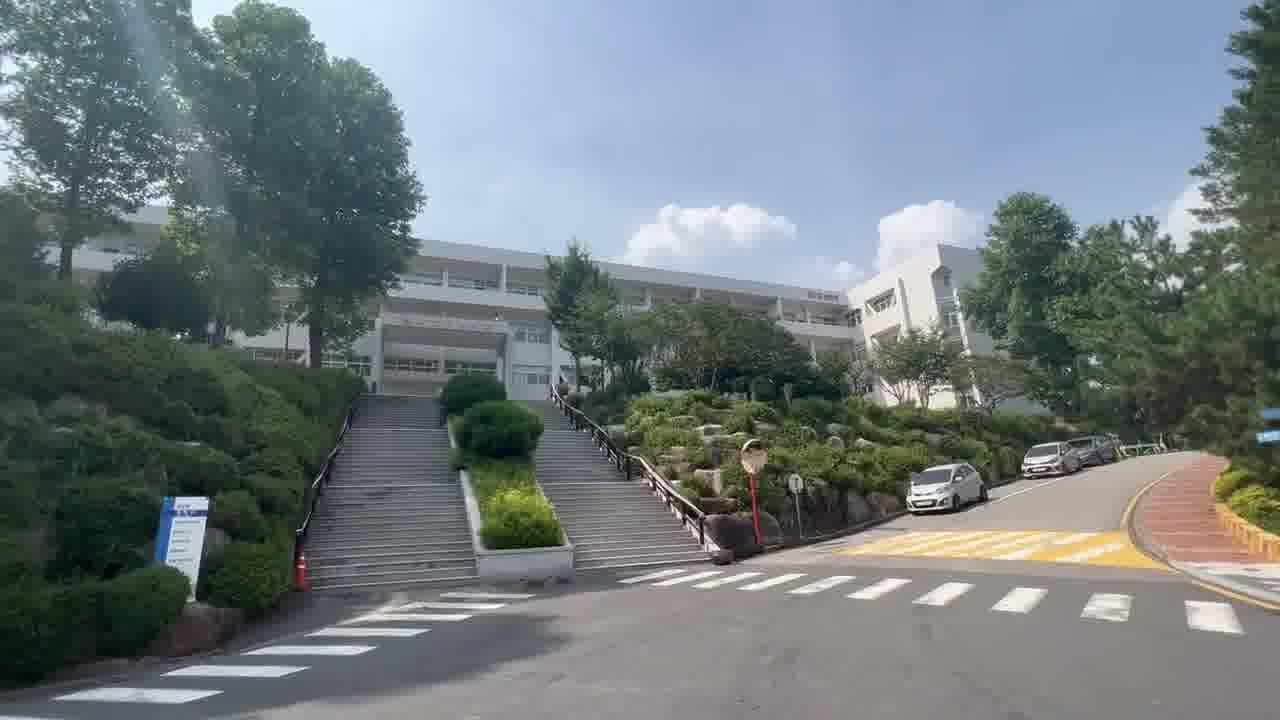building: (391, 223, 549, 384)
